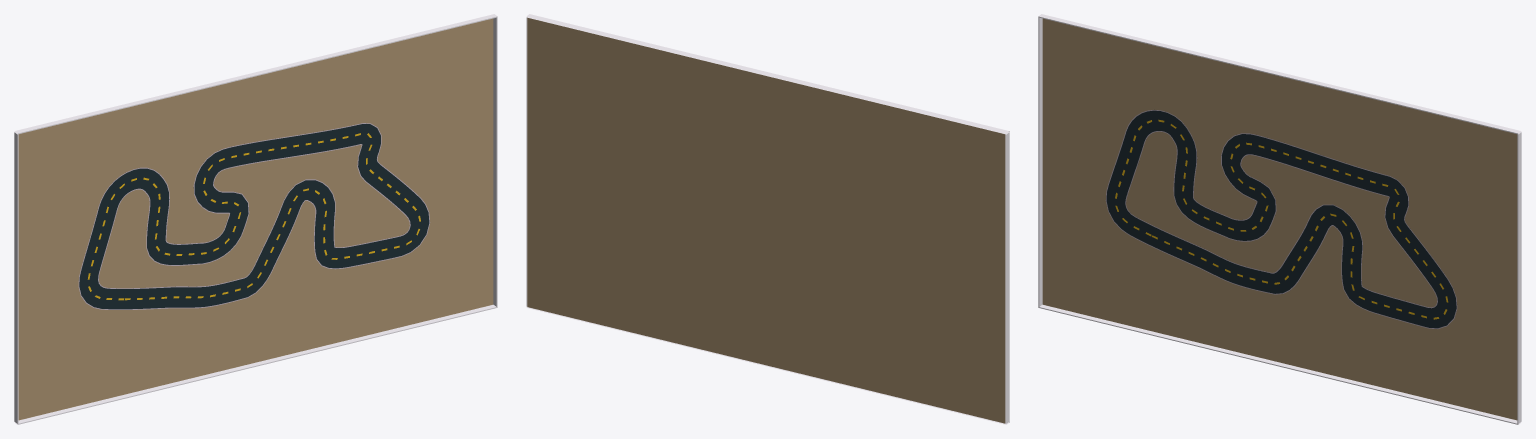
File: track.obj
The picture shows the model from 3 angles, left to right: view 1: azimuth 30°, elevation 25°; view 2: azimuth 150°, elevation 25°; view 3: azimuth 330°, elevation 25°; orthographic projection.
Bounding box in the file's own units: 25.15 × 14.58 × 0.3.
Materials: 5 (5 with a texture image).
